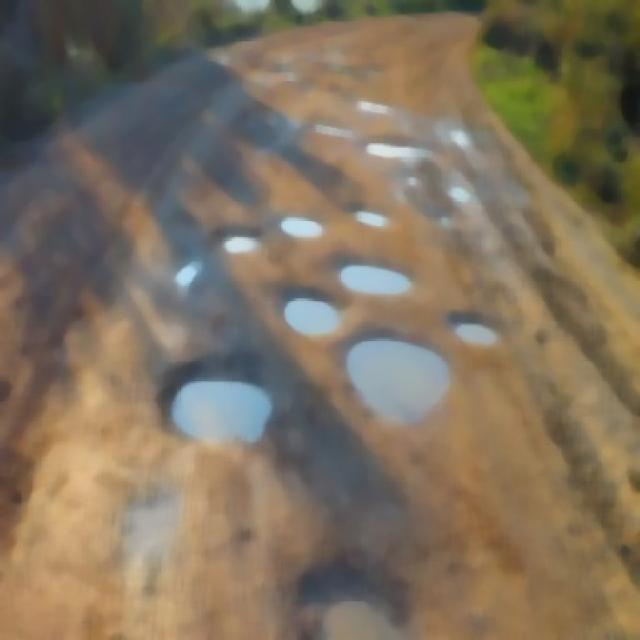Pothole: (332, 339, 463, 450), (178, 350, 264, 459), (272, 283, 348, 348), (344, 247, 421, 311), (213, 196, 264, 273), (361, 137, 447, 181), (269, 212, 336, 256), (451, 302, 487, 333)
